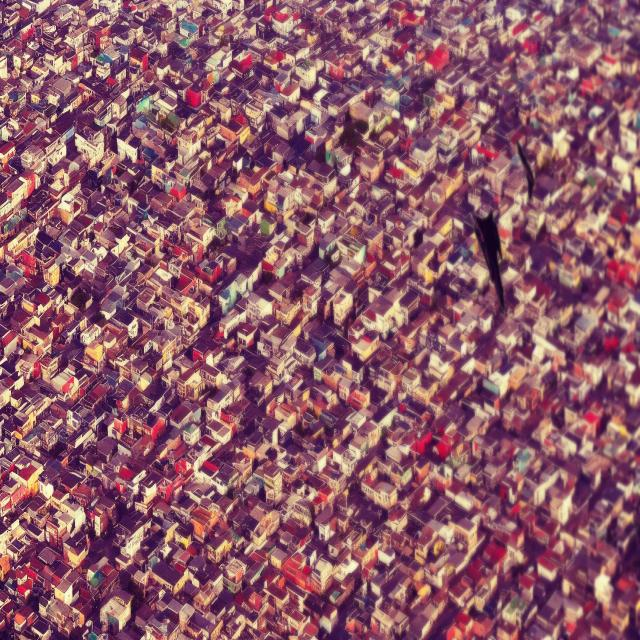airplane: (471, 208, 506, 308), (515, 139, 535, 200)
